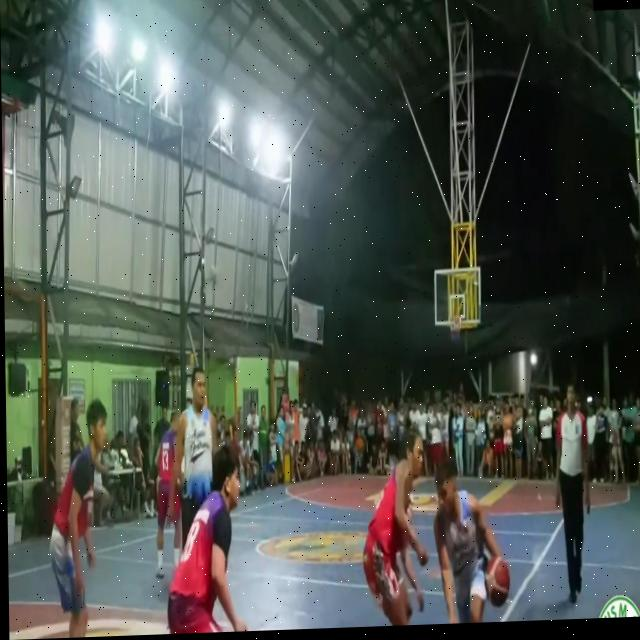basketball: (480, 552, 512, 611)
hoop: (446, 307, 466, 346)
